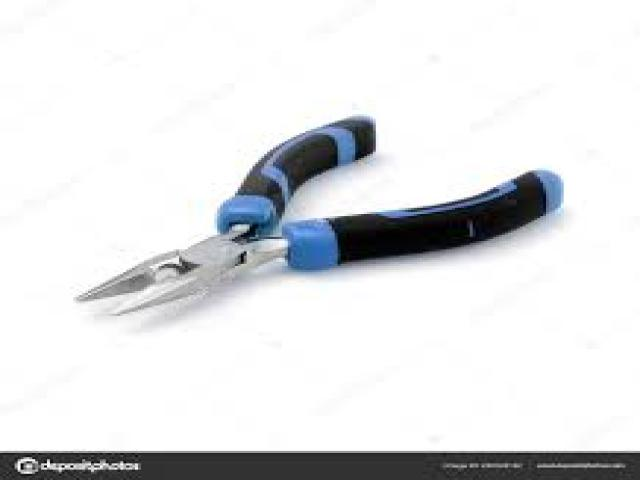Needle-nose pliers: (75, 117, 562, 315)
